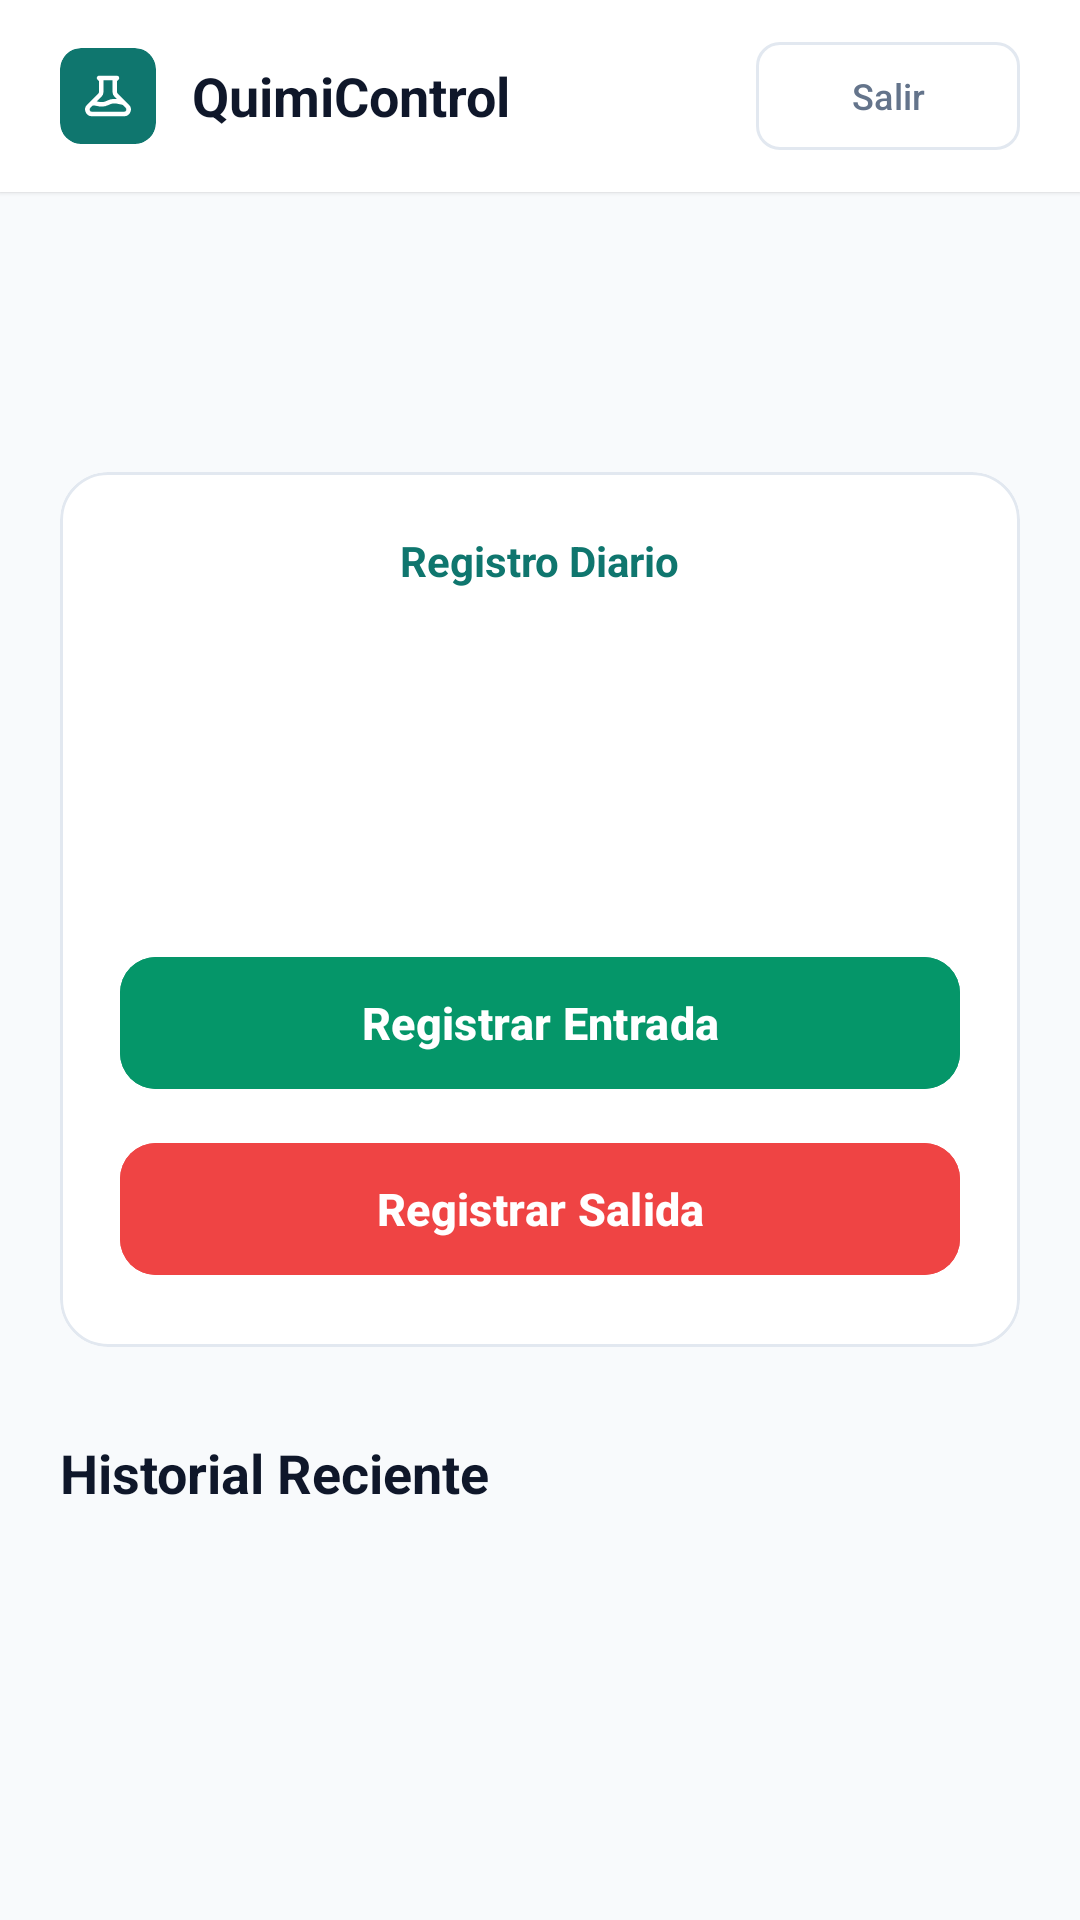

Icons on this 1080*1920 Android screen, each with its box as {"x1": x1, "y1": y1, "x2": x2, "y2": y2}:
quimi flask: {"x1": 85, "y1": 75, "x2": 131, "y2": 117}
